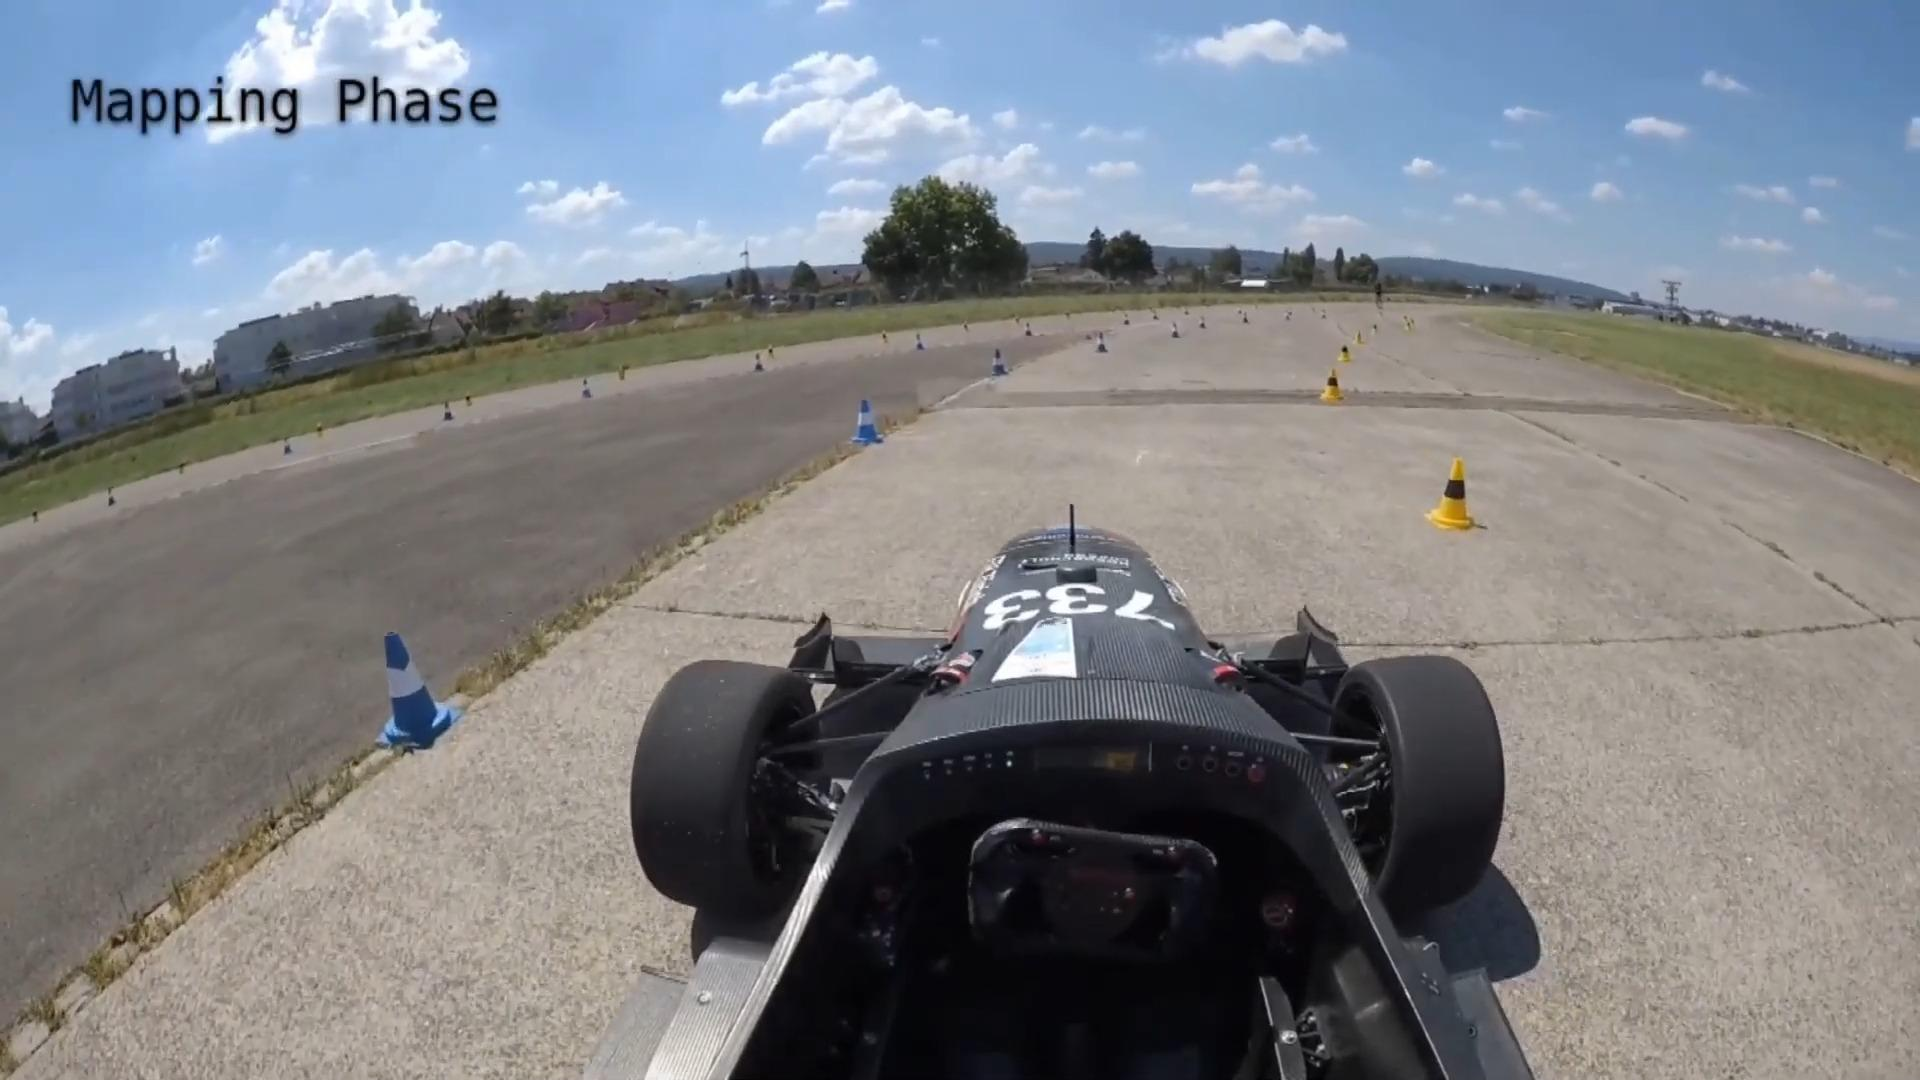blue_cone: (376, 625, 455, 756), (851, 400, 886, 450), (988, 348, 1009, 377), (1093, 332, 1108, 356), (579, 380, 593, 401), (913, 331, 926, 353), (442, 401, 455, 423), (104, 488, 117, 509), (753, 353, 765, 375), (282, 438, 294, 456), (1170, 323, 1180, 338), (1025, 323, 1034, 338), (1199, 318, 1208, 331)
yellow_cone: (1423, 456, 1476, 526), (1319, 372, 1345, 402), (1337, 344, 1352, 364), (314, 422, 327, 443), (178, 459, 191, 479), (28, 505, 40, 526), (960, 319, 971, 338), (880, 328, 891, 344), (765, 344, 775, 361), (1354, 331, 1366, 345), (1369, 319, 1379, 335), (617, 367, 626, 382), (465, 392, 475, 406), (1014, 313, 1022, 327)
